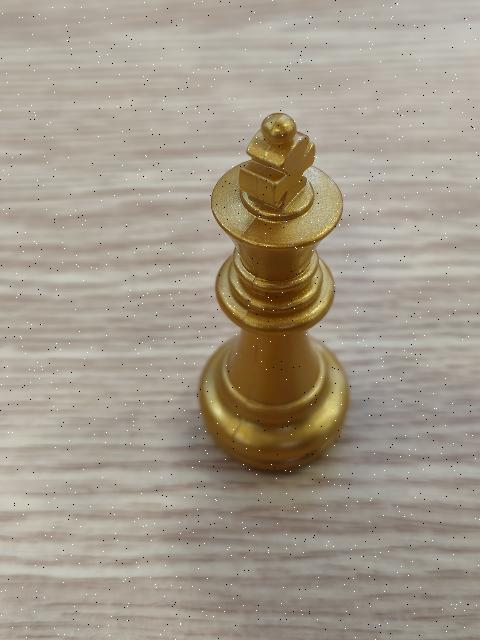black_king: (197, 109, 353, 471)
